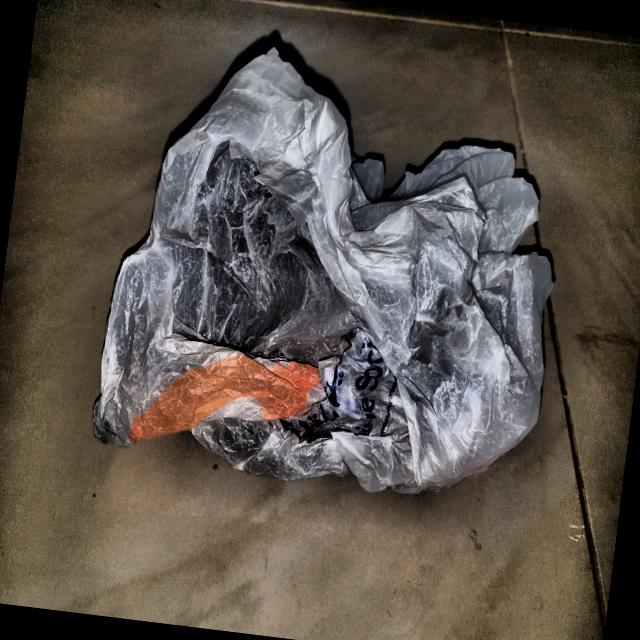plastic bag: (73, 17, 590, 526)
